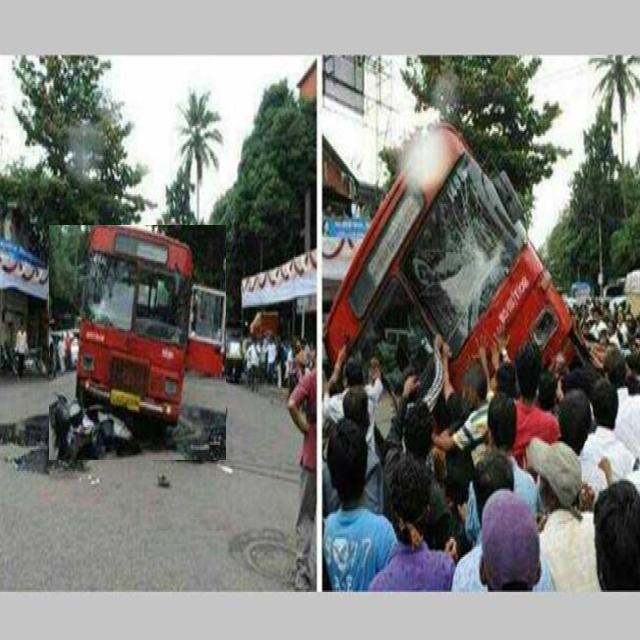accident: (325, 124, 584, 388), (49, 225, 226, 460)
